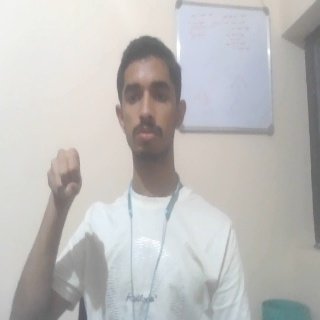Face: (113, 34, 190, 159)
Yes: (46, 148, 85, 205)
